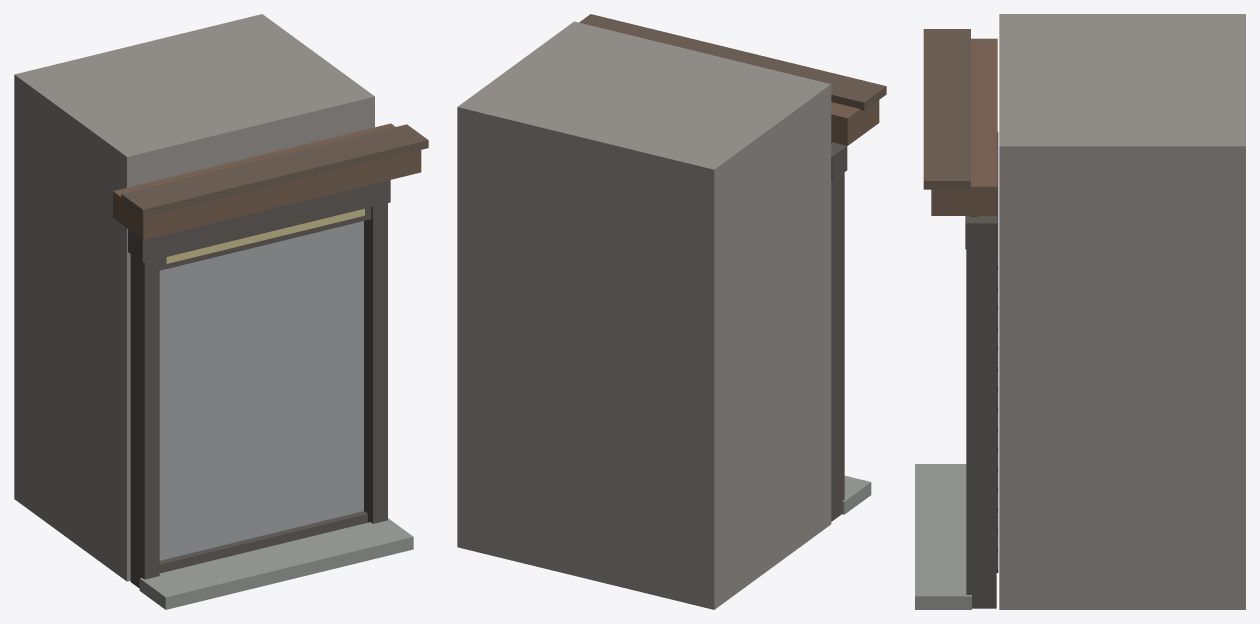
File: prop_shutter_shop_grey.glb
3 renders of one model, left to right at view 1: azimuth 30°, elevation 25°; view 2: azimuth 150°, elevation 25°; view 3: azimuth 270°, elevation 25°, orthographic. The views are drawn at different scales.
Visible parts, largest first — view 1: shutter_shop_grey; view 2: shutter_shop_grey; view 3: shutter_shop_grey.
Boxes of the visible parts, box(x1,y1,x2,y2) form: shutter_shop_grey: box(14, 14, 428, 609); shutter_shop_grey: box(457, 14, 886, 609); shutter_shop_grey: box(915, 14, 1245, 609).
Size of the model in its own units: 3.8 by 5.4 by 3.49.
